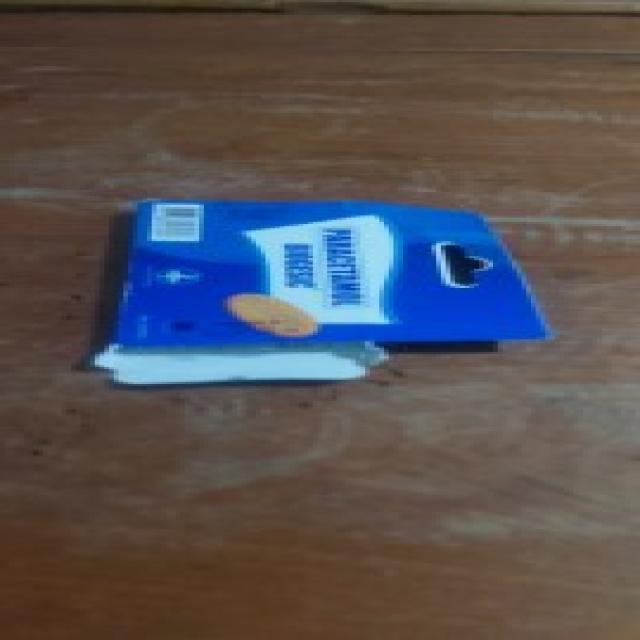Cacat: (86, 197, 569, 386)
Kemasan: (95, 338, 403, 387)
